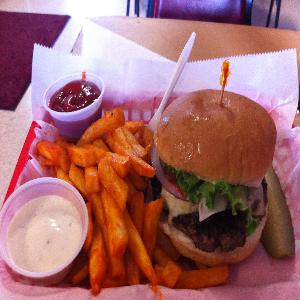cheeseburger: (155, 89, 284, 272)
fries: (56, 94, 169, 289)
